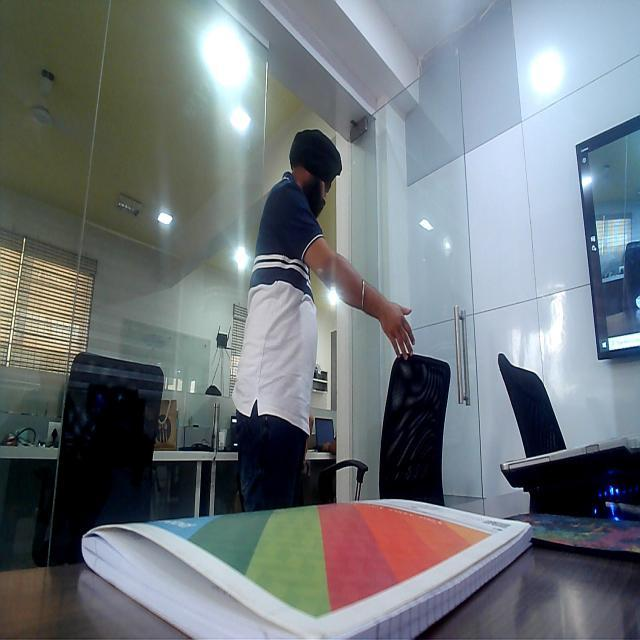without_gloves: (377, 294, 418, 366)
